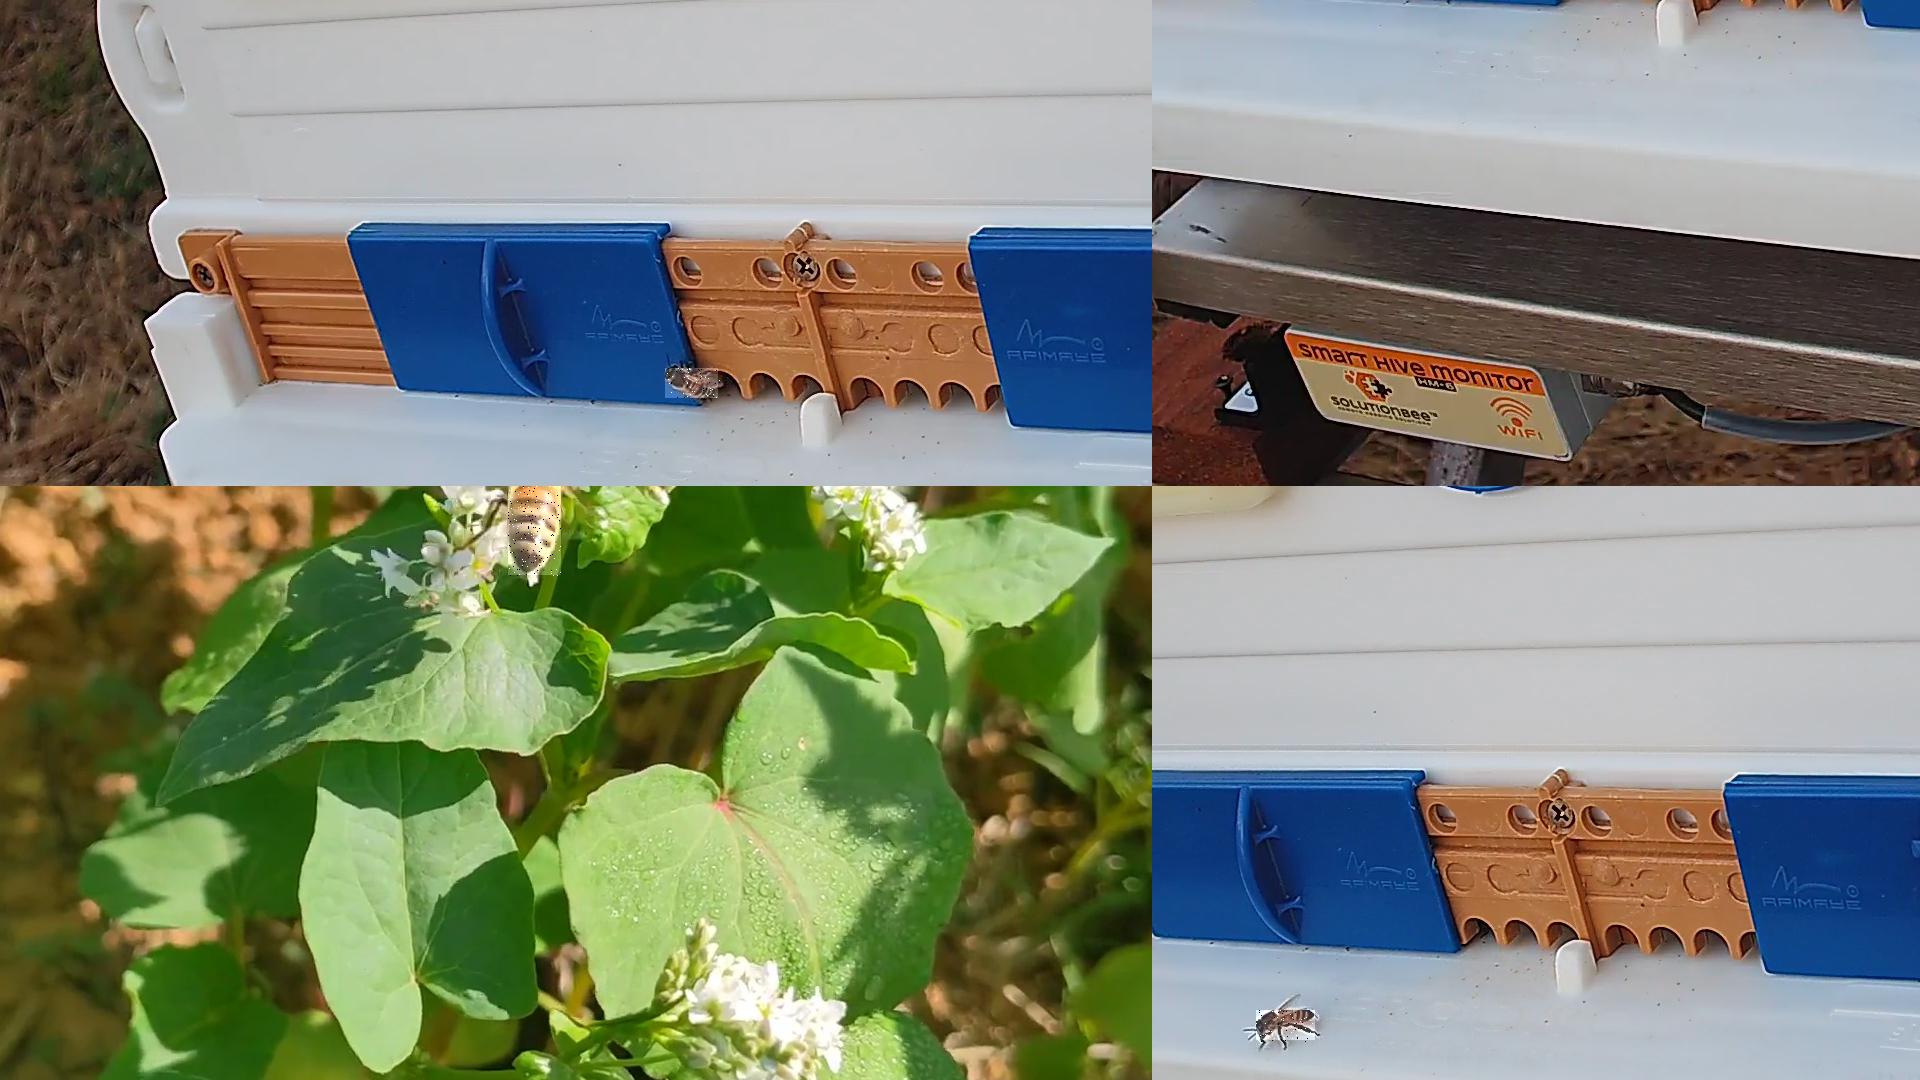bee: (508, 487, 563, 579), (1257, 1010, 1319, 1044), (666, 368, 721, 400)
